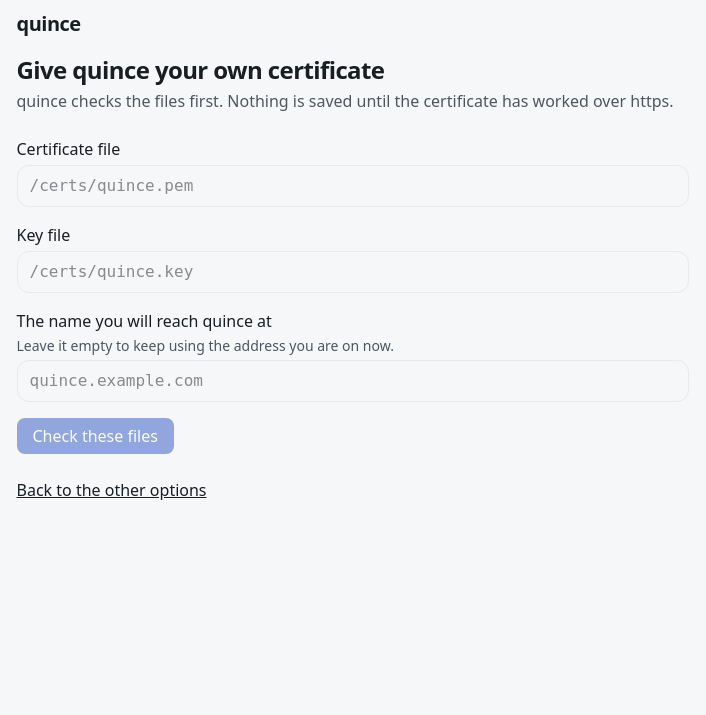
it: the certificate step › does not probe the network when the files are unusable
The width and height of the screenshot is (706, 715).
Step 1. Type "/tls/fullchain.pem" into the field labelled "Certificate file" → [352, 186], box left=16, top=165, right=688, bottom=207
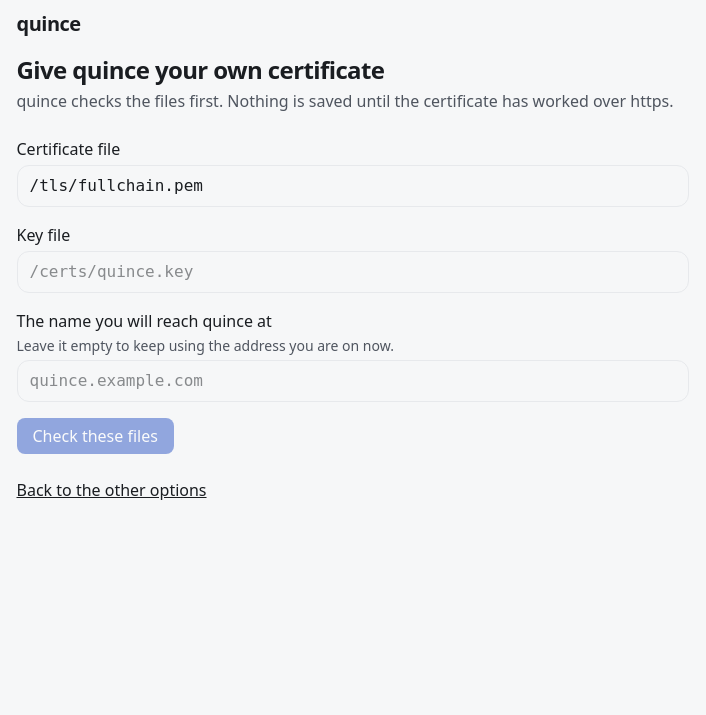
Step 2. Type "/tls/privkey.pem" into the field labelled "Key file" → [352, 272], box left=16, top=251, right=688, bottom=293
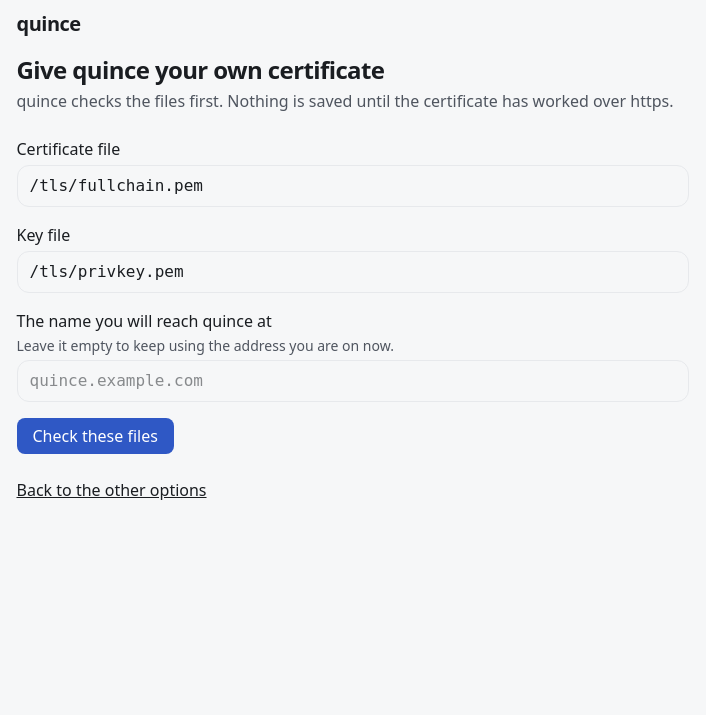
Step 3. Type "quince.example" into the field labelled "The name you will reach quince at" → [352, 381], box left=16, top=360, right=688, bottom=402
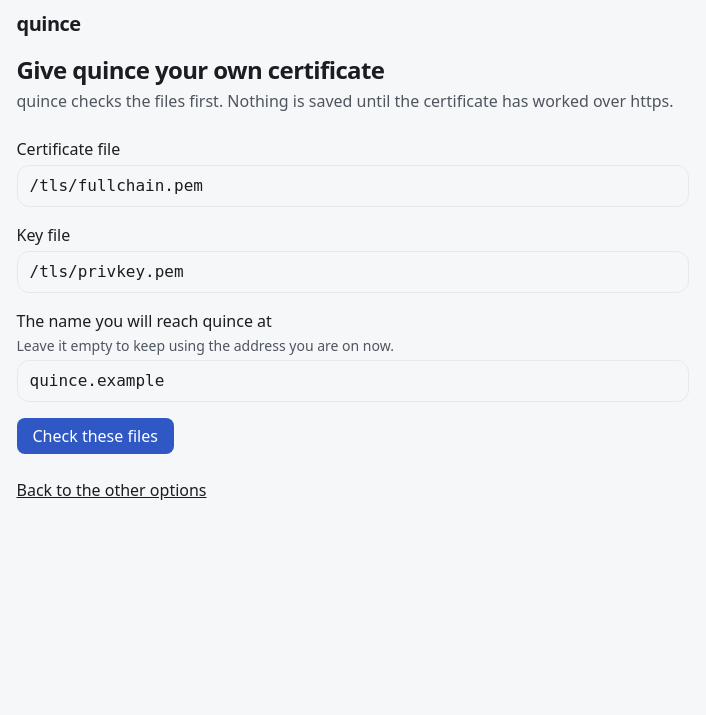
Step 4. Click the button "Check these files" → [95, 436], box left=16, top=418, right=174, bottom=454
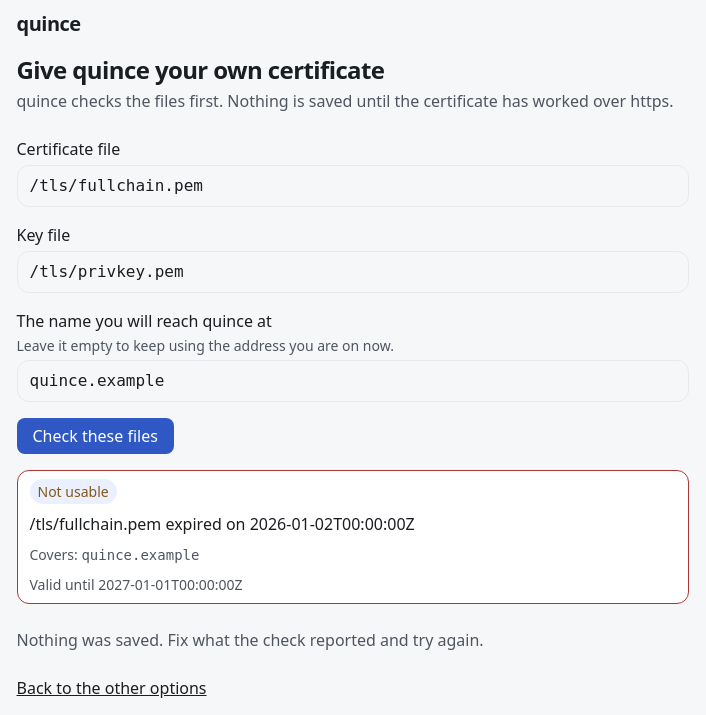
Expected: the text "/tls/fullchain.pem expired on 2026-01-02T00:00:00Z" is shown, left=30, top=513, right=415, bottom=535
